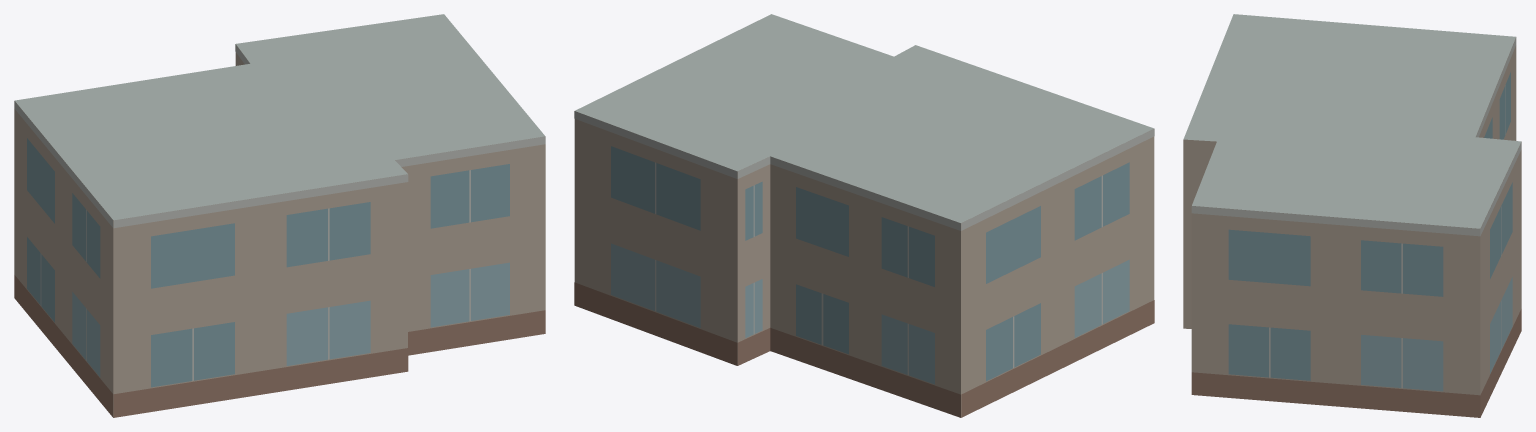
File: survey-upis-32656226.glb
The picture shows the model from 3 angles, left to right: view 1: azimuth 30°, elevation 25°; view 2: azimuth 150°, elevation 25°; view 3: azimuth 270°, elevation 25°; orthographic projection. The views are drawn at different scales.
Parts seen in each view (by area): view 1: survey-upis-32656226.tmp; view 2: survey-upis-32656226.tmp; view 3: survey-upis-32656226.tmp.
Boxes of the visible parts, box(x1,y1,x2,y2) form: survey-upis-32656226.tmp: box(14, 14, 545, 417); survey-upis-32656226.tmp: box(574, 14, 1154, 417); survey-upis-32656226.tmp: box(1183, 14, 1521, 417).
Bounding box in the file's own units: 14.87 × 6.1 × 9.9.
